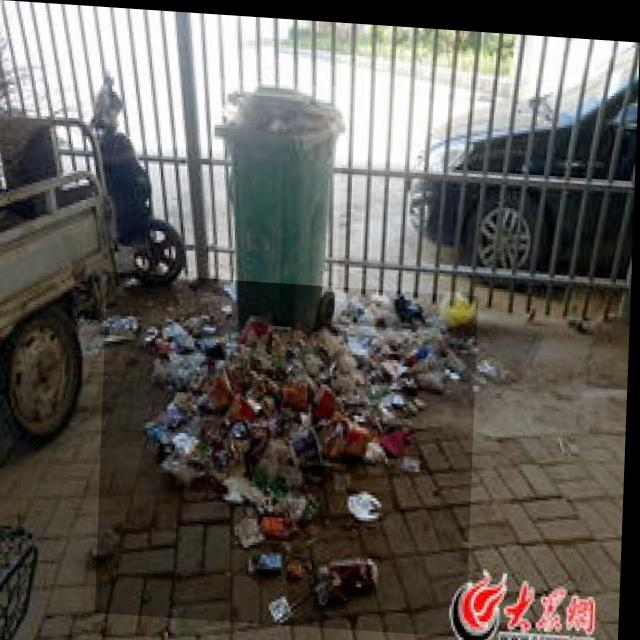garbage: (99, 270, 480, 631)
overflow: (208, 75, 345, 322)
